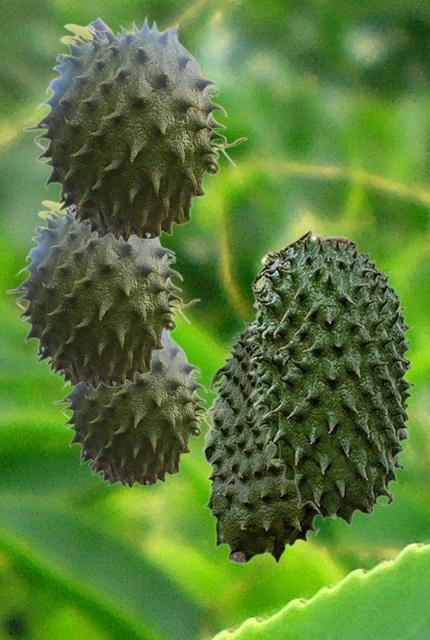guyabano: (22, 14, 247, 243), (246, 227, 416, 525), (5, 199, 200, 390), (201, 311, 320, 564), (52, 330, 222, 488)
